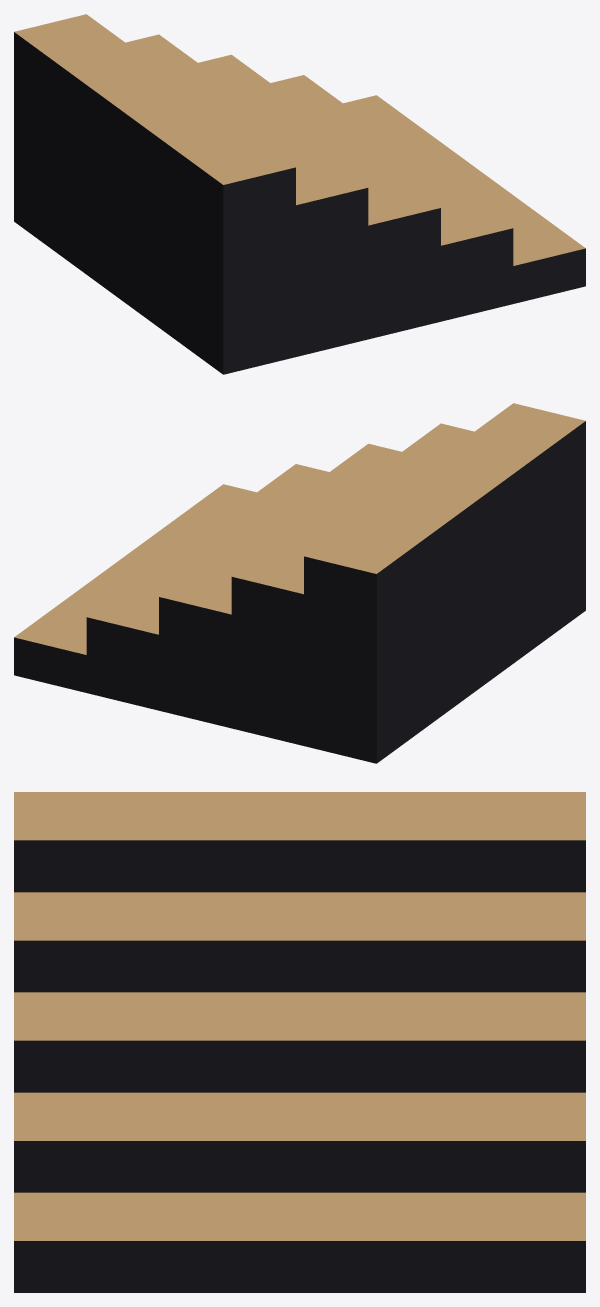
Rendered from Stairs_Full.fbx.
3 renders of one model, top to bottom at view 1: azimuth 30°, elevation 25°; view 2: azimuth 150°, elevation 25°; view 3: azimuth 270°, elevation 25°, orthographic. The views are drawn at different scales.
Parts seen in each view (by area): view 1: Stairs_Full; view 2: Stairs_Full; view 3: Stairs_Full.
Part boxes in pixels (box(x1,y1,x2,y2)): Stairs_Full: box(14, 14, 585, 374); Stairs_Full: box(14, 403, 585, 763); Stairs_Full: box(14, 792, 585, 1292).
Bounding box in the file's own units: 10 × 5 × 10.
